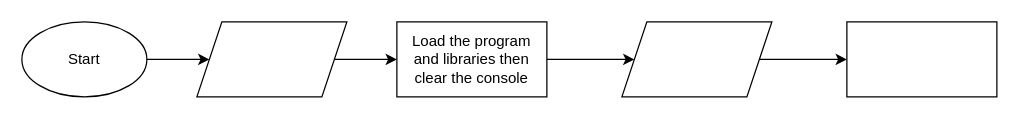
This 1019x119 diagram has some shape labels left out. Here are the shapes that lost their labels. From the top down, the centre of each, then its label:
the point at 271,59: Print loading page
the point at 696,59: Print the logo and moto
